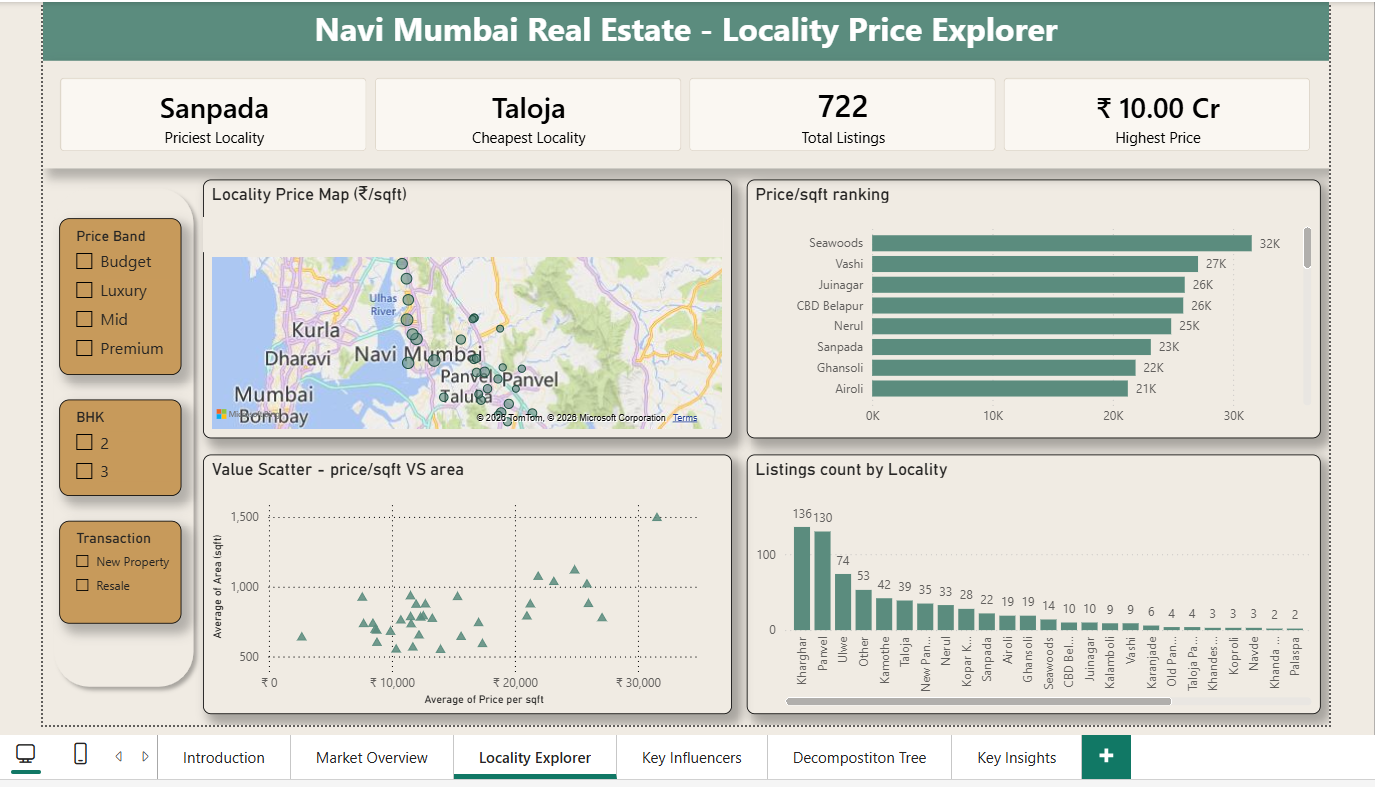

The page's visual inventory and layout, read from the dashboard file:
{"tool":"powerbi","page":{"name":"Locality Explorer","canvas":[1280,720],"ordinal":2},"visuals":[{"type":"shape","box":[2.5,176.2,156.2,513.8],"z":0},{"type":"textbox","box":[0,0,1280,67.5],"z":1000},{"type":"map","title":"Locality Price Map (₹/sqft)","fields":{"Category":["localities.Locality Name"],"Size":["_Measures.Avg Price per Sqft"]},"box":[158.8,176.2,526.2,257.5],"z":2000},{"type":"clusteredBarChart","title":"Price/sqft ranking","fields":{"Category":["localities.Locality Name"],"Y":["_Measures.Avg Price per Sqft"]},"box":[700,176.2,571.1,257.8],"z":3000},{"type":"clusteredColumnChart","title":"Listings count by Locality","fields":{"Category":["localities.Locality Name"],"Y":["CountNonNull(properties.Property_Id)"]},"box":[700,450,571.2,258.8],"z":4000},{"type":"scatterChart","title":"Value Scatter - price/sqft VS area","fields":{"Category":["localities.Locality Name"],"X":["Avg(properties.price per sqft)"],"Y":["Avg(properties.Area (sqft))"]},"box":[158.8,450,526.2,258.8],"z":5000},{"type":"slicer","fields":{"Values":["properties.Price Band"]},"box":[16.2,215,121.2,156.2],"z":6000},{"type":"slicer","fields":{"Values":["properties.Transaction"]},"box":[16.2,516.2,121.2,102.5],"z":7000},{"type":"slicer","fields":{"Values":["properties.BHK"]},"box":[16.2,395,121.2,96.2],"z":8000},{"type":"cardVisual","fields":{"Data":["_Measures.Priciest Locality","_Measures.Cheapest Locality","_Measures.Total Listings","_Measures.Highest Price"]},"box":[0,58.8,1280,107.5],"z":9000},{"type":"shape","box":[158.8,213.8,517.5,35],"z":10000}]}

Visuals, with their boxes on the page's 1280x720 design canvas (x1, y1, x2, y2). These are canvas units, not pixel positions in the 1375x787 screenshot, which may show the page scaled, cropped or inside an application window:
shape: (2,176,159,690)
textbox: (0,0,1280,68)
"Locality Price Map (₹/sqft)" map: (159,176,685,434)
"Price/sqft ranking" clusteredBarChart: (700,176,1271,434)
"Listings count by Locality" clusteredColumnChart: (700,450,1271,709)
"Value Scatter - price/sqft VS area" scatterChart: (159,450,685,709)
slicer - properties.Price Band: (16,215,137,371)
slicer - properties.Transaction: (16,516,137,619)
slicer - properties.BHK: (16,395,137,491)
cardVisual - _Measures.Priciest Locality x _Measures.Cheapest Locality: (0,59,1280,166)
shape: (159,214,676,249)
